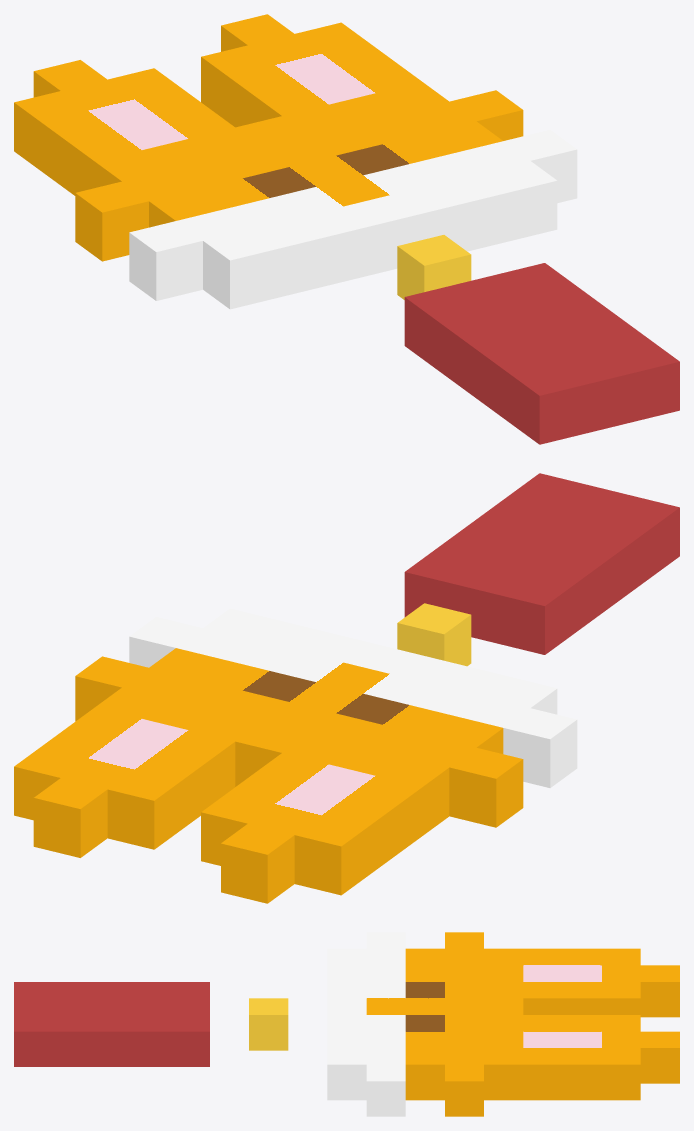
The model's file is 小狐狸门牌.gltf.
3 renders of one model, top to bottom at view 1: azimuth 30°, elevation 25°; view 2: azimuth 150°, elevation 25°; view 3: azimuth 270°, elevation 25°, orthographic. The views are drawn at different scales.
Visible parts, largest first — view 1: Object; view 2: Object; view 3: Object.
Boxes of the visible parts, x1=… form: Object: x1=14, y1=14, x2=679, y2=444; Object: x1=14, y1=473, x2=679, y2=903; Object: x1=14, y1=932, x2=679, y2=1116.
Bounding box in the file's own units: 9 × 1 × 17.
1 material, 1 textured.
